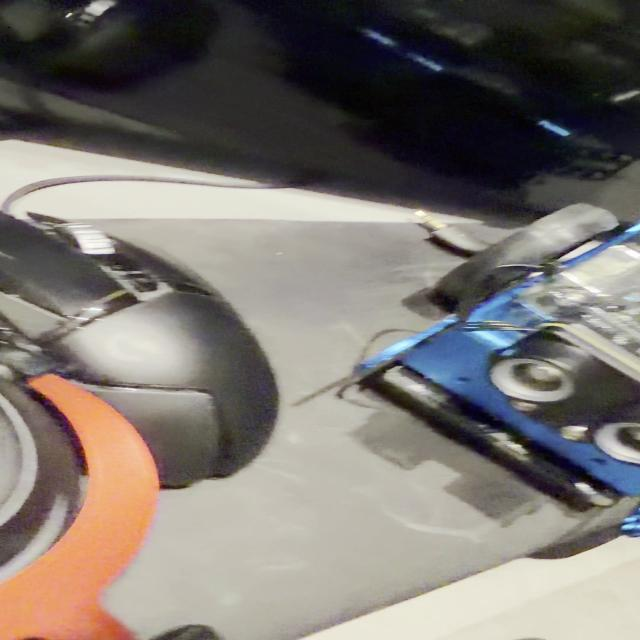mbot-detection: (336, 198, 640, 548)
